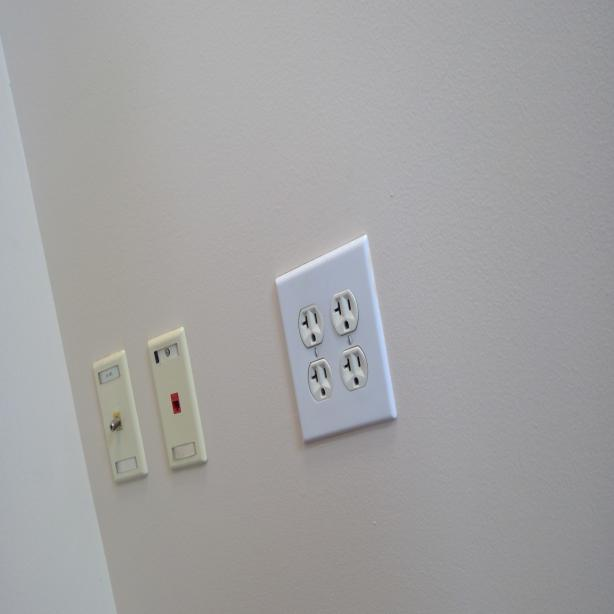typeb: (337, 351, 367, 390), (299, 302, 324, 348), (332, 291, 358, 334), (308, 360, 334, 402)
